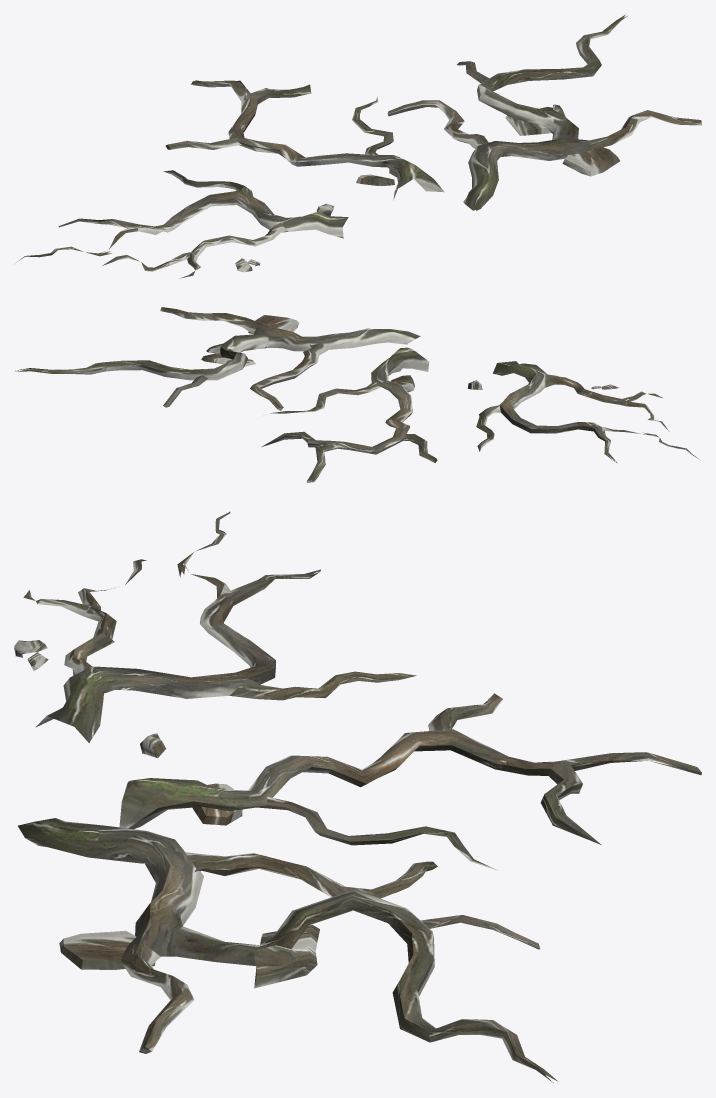
The model's file is 5015_Item_shuteng_2.FBX.
3 renders of one model, top to bottom at view 1: azimuth 30°, elevation 25°; view 2: azimuth 150°, elevation 25°; view 3: azimuth 270°, elevation 25°, orthographic. The views are drawn at different scales.
Visible parts, largest first — view 1: 5015_Item_shuteng_2; view 2: 5015_Item_shuteng_2; view 3: 5015_Item_shuteng_2.
Boxes of the visible parts, x1=… form: 5015_Item_shuteng_2: x1=16, y1=14, x2=701, y2=278; 5015_Item_shuteng_2: x1=15, y1=307, x2=699, y2=482; 5015_Item_shuteng_2: x1=14, y1=511, x2=701, y2=1082.
Bounding box in the file's own units: 1959 × 86.03 × 984.
